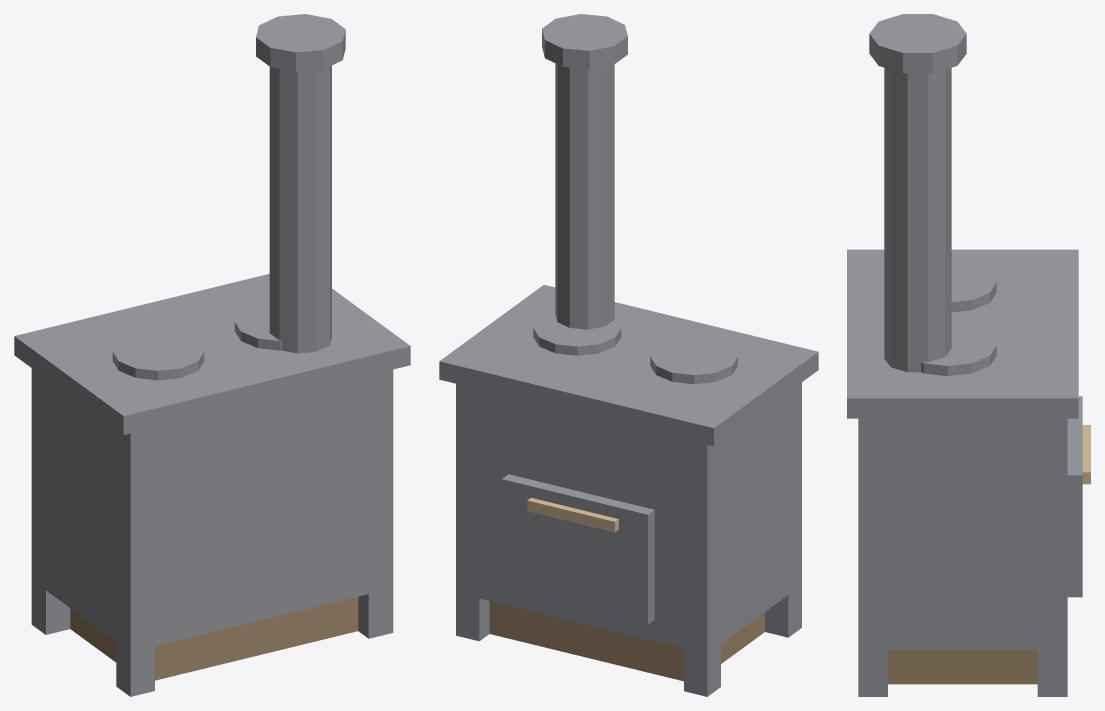
The model's file is 18-Casas_estufa_lena.glb.
3 views of the same model, side by side, from view 1: azimuth 30°, elevation 25°; view 2: azimuth 150°, elevation 25°; view 3: azimuth 270°, elevation 25° (orthographic). The views are drawn at different scales.
Visible parts, largest first — view 1: SM_Estufa_M_Mueble_Hierro, SM_Estufa_M_Mueble_Madera_Oscura; view 2: SM_Estufa_M_Mueble_Hierro, SM_Estufa_M_Mueble_Madera_Oscura, SM_Estufa_M_Mueble_Bronce; view 3: SM_Estufa_M_Mueble_Hierro, SM_Estufa_M_Mueble_Madera_Oscura, SM_Estufa_M_Mueble_Bronce.
Part boxes in pixels (<box>): SM_Estufa_M_Mueble_Hierro: <box>14,14,410,696</box>; SM_Estufa_M_Mueble_Madera_Oscura: <box>70,597,358,680</box>; SM_Estufa_M_Mueble_Hierro: <box>439,14,818,696</box>; SM_Estufa_M_Mueble_Madera_Oscura: <box>489,601,764,681</box>; SM_Estufa_M_Mueble_Bronce: <box>527,497,618,532</box>; SM_Estufa_M_Mueble_Hierro: <box>847,14,1082,696</box>; SM_Estufa_M_Mueble_Madera_Oscura: <box>888,649,1037,684</box>; SM_Estufa_M_Mueble_Bronce: <box>1082,425,1090,484</box>.
Size of the model in its own units: 0.94 by 1.86 by 0.6525.
